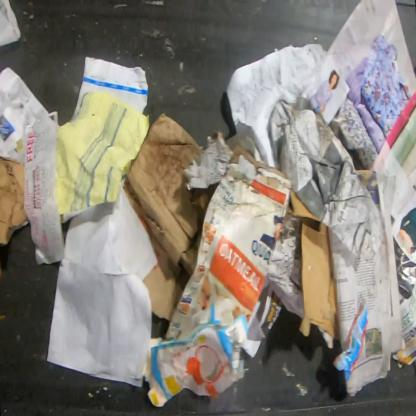cardboard: (164, 130, 295, 340), (123, 111, 218, 322), (140, 298, 263, 408), (288, 190, 340, 342), (0, 155, 31, 249)
soft_plastic: (331, 299, 370, 383)
